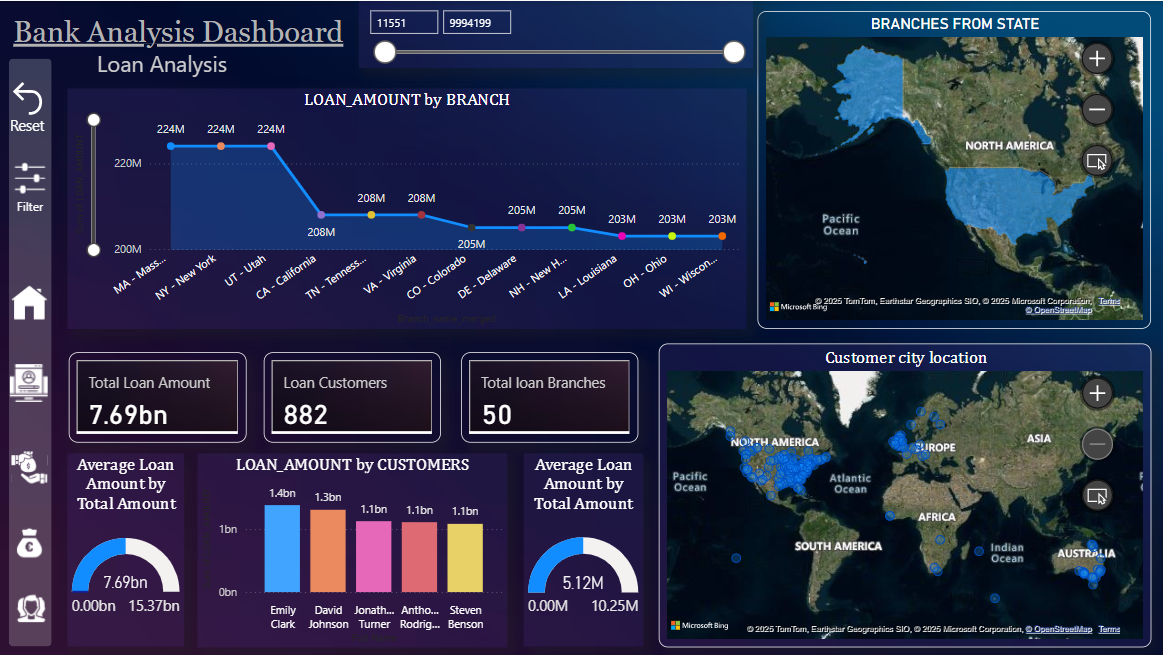

The page's visual inventory and layout, read from the dashboard file:
{"tool":"powerbi","page":{"name":"Loan Analysis ","canvas":[1280,720],"ordinal":3},"visuals":[{"type":"areaChart","title":"LOAN_AMOUNT by BRANCH","fields":{"Category":["Bank_Branch_Data.Branch_name_merged"],"Y":["Sum(Bank_Loan_Data.LOAN_AMOUNT)"]},"box":[73.7,96,745.7,264.3],"z":0},{"type":"shape","box":[61.6,117.2,205.5,579.7],"z":0,"group":"g1"},{"type":"textbox","box":[10.1,11.5,413.8,57.7],"z":1000},{"type":"slicer","fields":{"Values":["Bank_Branch_Data.Branch_name_merged"]},"box":[66,173.9,201.8,84.9],"z":1000,"group":"g1"},{"type":"shape","box":[10.1,63.4,47.6,645.9],"z":2000},{"type":"slicer","fields":{"Values":["Bank_Account_Data.ACCOUNT_TYPE"]},"box":[64.6,278.3,201.8,86.3],"z":2000,"group":"g1"},{"type":"slicer","fields":{"Values":["Bank_Branch_Data.BRANCH_STATE"]},"box":[67.4,366,201.8,84.9],"z":3000,"group":"g1"},{"type":"map","title":"Customer city location","fields":{"Category":["Bank_Customer_Data.City"]},"box":[723.2,376,540.7,333.4],"z":3000},{"type":"filledMap","title":"BRANCHES FROM STATE","fields":{"Category":["Bank_Branch_Data.BRANCH_STATE"]},"box":[831.6,11,432.2,348.5],"z":4000},{"type":"slicer","fields":{"Values":["Bank_Customer_Data.City"]},"box":[66,452.3,201.8,84.9],"z":4000,"group":"g1"},{"type":"cardVisual","fields":{"Data":["Measure Table.Total Loan Amount"]},"box":[74.9,386,195,99.4],"z":5000},{"type":"slicer","fields":{"Values":["Bank_Account_Data.Year"]},"box":[66,538.5,201.8,84.9],"z":5000,"group":"g1"},{"type":"cardVisual","fields":{"Data":["Measure Table.Total Loan Customers"]},"box":[289.5,386,194.4,99.4],"z":6000},{"type":"actionButton","box":[82,603.7,100.5,38.1],"z":6000,"group":"g1"},{"type":"actionButton","box":[68.8,139.1,40.4,44.5],"z":7000,"group":"g1"},{"type":"cardVisual","fields":{"Data":["Measure Table.Total loan Branches"]},"box":[506.9,386,194.4,99.4],"z":7000},{"type":"lineClusteredColumnComboChart","title":"LOAN_AMOUNT by CUSTOMERS","fields":{"Category":["Bank_Customer_Data.Full Name"],"Y":["Sum(Bank_Loan_Data.LOAN_AMOUNT)"]},"box":[217.5,496.9,339.9,213.1],"z":8000},{"type":"actionButton","box":[154.8,650.5,100.5,39.8],"z":8000,"group":"g1"},{"type":"gauge","title":"Average Loan Amount by Total Amount","fields":{"TargetValue":["Measure Table.Total Loan Amount"],"Y":["Measure Table.Average Loan Amount"]},"box":[574.6,496.9,131.1,211.7],"z":9000},{"type":"gauge","title":"Average Loan Amount by Total Amount","fields":{"TargetValue":["Measure Table.Total Loan Customers"],"Y":["Measure Table.Total Loan Amount"]},"box":[73.4,496.9,128.2,211.7],"z":10000},{"type":"actionButton","box":[8.4,305.2,48.3,54.3],"z":11000},{"type":"actionButton","box":[7.2,393.3,49.5,50.7],"z":12000},{"type":"actionButton","box":[8.4,481.4,48.3,61.5],"z":13000},{"type":"actionButton","box":[8.4,564.6,48.3,62.7],"z":14000},{"type":"actionButton","box":[12.1,643,44.6,47.1],"z":15000},{"type":"slicer","fields":{"Values":["Bank_Loan_Data.LOAN_AMOUNT"]},"box":[394.4,0,432.7,73.7],"z":16000},{"type":"actionButton","box":[7,62.6,47.3,87.7],"z":17000},{"type":"textbox","box":[101.6,48.7,201.7,50.1],"z":18000},{"type":"group","id":"g1","title":"filter page","box":[61.6,117.2,207.6,579.7],"z":19000},{"type":"actionButton","box":[11.3,150.9,44,86.7],"z":20000}]}

Visuals, with their boxes on the page's 1280x720 design canvas (x1, y1, x2, y2). These are canvas units, not pixel positions in the 1163x655 screenshot, which may show the page scaled, cropped or inside an application window:
"LOAN_AMOUNT by BRANCH" areaChart: detection(74, 96, 819, 360)
shape: detection(62, 117, 267, 697)
textbox: detection(10, 12, 424, 69)
slicer - Bank_Branch_Data.Branch_name_merged: detection(66, 174, 268, 259)
shape: detection(10, 63, 58, 709)
slicer - Bank_Account_Data.ACCOUNT_TYPE: detection(65, 278, 266, 365)
slicer - Bank_Branch_Data.BRANCH_STATE: detection(67, 366, 269, 451)
"Customer city location" map: detection(723, 376, 1264, 709)
"BRANCHES FROM STATE" filledMap: detection(832, 11, 1264, 360)
slicer - Bank_Customer_Data.City: detection(66, 452, 268, 537)
cardVisual - Measure Table.Total Loan Amount: detection(75, 386, 270, 485)
slicer - Bank_Account_Data.Year: detection(66, 538, 268, 623)
cardVisual - Measure Table.Total Loan Customers: detection(290, 386, 484, 485)
actionButton: detection(82, 604, 182, 642)
actionButton: detection(69, 139, 109, 184)
cardVisual - Measure Table.Total loan Branches: detection(507, 386, 701, 485)
"LOAN_AMOUNT by CUSTOMERS" lineClusteredColumnComboChart: detection(218, 497, 557, 710)
actionButton: detection(155, 650, 255, 690)
"Average Loan Amount by Total Amount" gauge: detection(575, 497, 706, 709)
"Average Loan Amount by Total Amount" gauge: detection(73, 497, 202, 709)
actionButton: detection(8, 305, 57, 360)
actionButton: detection(7, 393, 57, 444)
actionButton: detection(8, 481, 57, 543)
actionButton: detection(8, 565, 57, 627)
actionButton: detection(12, 643, 57, 690)
slicer - Bank_Loan_Data.LOAN_AMOUNT: detection(394, 0, 827, 74)
actionButton: detection(7, 63, 54, 150)
textbox: detection(102, 49, 303, 99)
"filter page" group: detection(62, 117, 269, 697)
actionButton: detection(11, 151, 55, 238)
